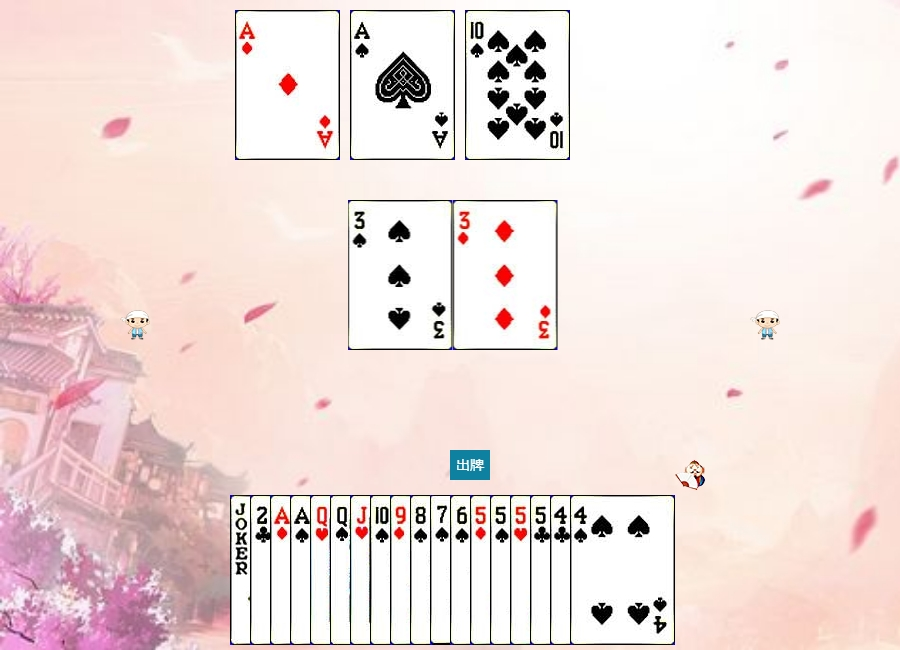10~4: (465, 10, 570, 160), (370, 495, 475, 645)
11~3: (350, 495, 455, 645)
12~3: (310, 495, 415, 645)
12~4: (330, 495, 435, 645)
14~1: (235, 10, 340, 160), (270, 495, 375, 645)
14~4: (350, 10, 455, 160), (290, 495, 395, 645)
15~2: (250, 495, 355, 645)
17~3: (230, 495, 335, 645)
3~1: (453, 200, 558, 350)
3~4: (348, 200, 453, 350)
4~2: (550, 495, 655, 645)
4~4: (570, 495, 675, 645)
5~1: (470, 495, 575, 645)
5~2: (530, 495, 635, 645)
5~3: (510, 495, 615, 645)
5~4: (490, 495, 595, 645)
6~4: (450, 495, 555, 645)
7~4: (430, 495, 535, 645)
8~4: (410, 495, 515, 645)
9~1: (390, 495, 495, 645)
